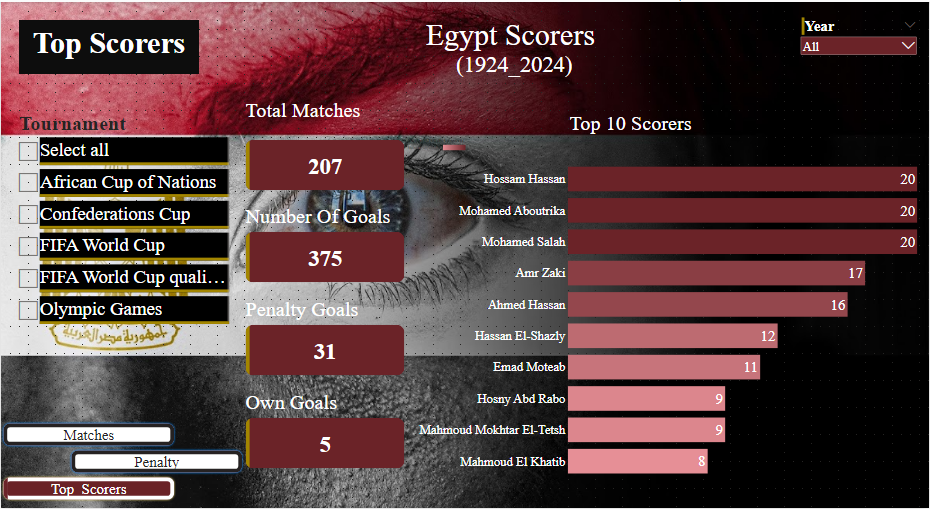

Layout of this report page (visuals, bound fields, positions):
{"tool":"powerbi","page":{"name":"Top_Scorers","canvas":[3300,1800],"ordinal":2},"visuals":[{"type":"textbox","box":[64,64,640,192],"z":0},{"type":"group","id":"g1","title":"Group 1","box":[864,714.9,576,288],"z":1000},{"type":"cardVisual","fields":{"Data":["Goal_Scorers.Total Scores matches"]},"box":[864,480,576,192],"z":2000,"group":"g4"},{"type":"cardVisual","fields":{"Data":["Goal_Scorers.Number Of Goals"]},"box":[864,810.9,576,192],"z":2000,"group":"g1"},{"type":"cardVisual","fields":{"Data":["Goal_Scorers.Number Of Penalty Goals"]},"box":[864,1141.9,576,192],"z":2000,"group":"g3"},{"type":"group","id":"g2","title":"Group 1","box":[864,1376.8,576,288],"z":2000},{"type":"cardVisual","fields":{"Data":["Goal_Scorers.Number Of Own Goals"]},"box":[864,1472.8,576,192],"z":2000,"group":"g2"},{"type":"group","id":"g3","title":"Group 1","box":[864,1045.9,576,288],"z":3000},{"type":"slicer","fields":{"Values":["Goal_Scorers.Date_.Variation.Date Hierarchy.Year"]},"box":[2832,48,432,384],"z":4000},{"type":"slicer","fields":{"Values":["Goal_Scorers.Tournament"]},"box":[48,384,768,768],"z":5000},{"type":"clusteredBarChart","fields":{"Category":["Goal_Scorers.scorer"],"Y":["Goal_Scorers.Number Of Goals"]},"box":[1440,480,1824,1248],"z":6000},{"type":"textbox","box":[1440,48,768,240],"z":7000},{"type":"textbox","box":[864,714.9,576,96],"z":7001,"group":"g1"},{"type":"textbox","box":[864,1045.9,576,96],"z":7001,"group":"g3"},{"type":"textbox","box":[864,1376.8,576,96],"z":7001,"group":"g2"},{"type":"group","id":"g4","title":"Group 2","box":[864,336,576,336],"z":8000},{"type":"textbox","box":[2016,384,720,96],"z":9000},{"type":"textbox","box":[864,336,576,96],"z":9002,"group":"g4"},{"type":"pageNavigator","box":[0,1488,624,96],"z":10000},{"type":"pageNavigator","box":[240,1584,624,96],"z":11000},{"type":"pageNavigator","box":[0,1680,624,96],"z":12000}]}

Visuals, with their boxes in screenshot pixels (x1, y1, x2, y2), scaled from the page's 3300x1800 canvas onto the 930x509 screenshot:
textbox: 18,18,198,72
"Group 1" group: 243,202,406,284
cardVisual - Goal_Scorers.Total Scores matches: 243,136,406,190
cardVisual - Goal_Scorers.Number Of Goals: 243,229,406,284
cardVisual - Goal_Scorers.Number Of Penalty Goals: 243,323,406,377
"Group 1" group: 243,389,406,471
cardVisual - Goal_Scorers.Number Of Own Goals: 243,416,406,471
"Group 1" group: 243,296,406,377
slicer - Goal_Scorers.Date_.Variation.Date Hierarchy.Year: 798,14,920,122
slicer - Goal_Scorers.Tournament: 14,109,230,326
clusteredBarChart - Goal_Scorers.scorer x Goal_Scorers.Number Of Goals: 406,136,920,489
textbox: 406,14,622,81
textbox: 243,202,406,229
textbox: 243,296,406,323
textbox: 243,389,406,416
"Group 2" group: 243,95,406,190
textbox: 568,109,771,136
textbox: 243,95,406,122
pageNavigator: 0,421,176,448
pageNavigator: 68,448,243,475
pageNavigator: 0,475,176,502
